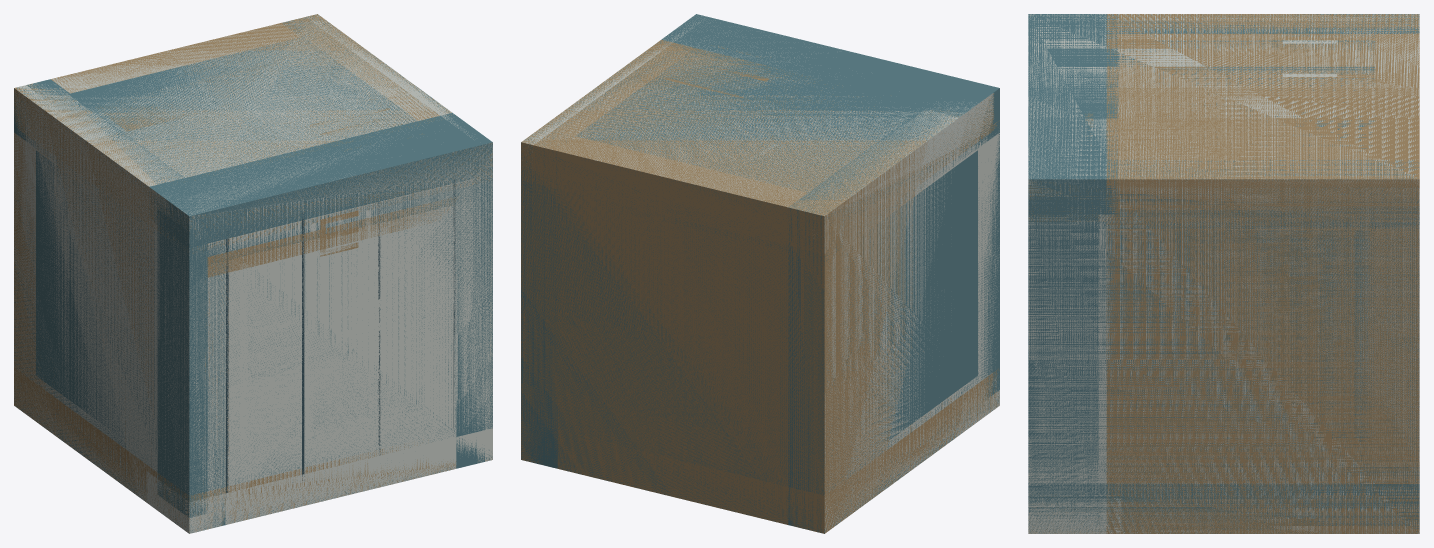
The model's file is Rainline_Extraction039.glb.
3 views of the same model, side by side, from view 1: azimuth 30°, elevation 25°; view 2: azimuth 150°, elevation 25°; view 3: azimuth 270°, elevation 25° (orthographic). The views are drawn at different scales.
Parts seen in each view (by area): view 1: foundation, freight_ground, column, beam, slab, utility_ground, transit_ground, roof, utility_label, freight_label; view 2: freight_ground, column, foundation, slab, beam, utility_ground, roof; view 3: freight_ground, foundation, beam, slab, column, utility_ground, roof.
Boxes of the visible parts, x1,y1,x2,y2 form: foundation: [14, 14, 492, 532]; freight_ground: [14, 14, 492, 533]; column: [14, 15, 492, 533]; beam: [14, 89, 491, 532]; slab: [14, 16, 492, 532]; utility_ground: [151, 114, 492, 438]; transit_ground: [203, 181, 477, 454]; roof: [95, 87, 422, 149]; utility_label: [320, 210, 358, 256]; freight_label: [311, 209, 370, 256]; freight_ground: [521, 14, 999, 533]; column: [521, 23, 999, 533]; foundation: [523, 16, 999, 532]; slab: [521, 16, 999, 533]; beam: [521, 93, 999, 532]; utility_ground: [662, 14, 999, 124]; roof: [664, 45, 830, 187]; freight_ground: [1028, 14, 1419, 533]; foundation: [1028, 14, 1419, 533]; beam: [1028, 179, 1419, 533]; slab: [1028, 14, 1419, 533]; column: [1028, 14, 1419, 533]; utility_ground: [1028, 14, 1117, 214]; roof: [1085, 36, 1361, 135].
Size of the model in its own units: 2 by 2 by 2.
